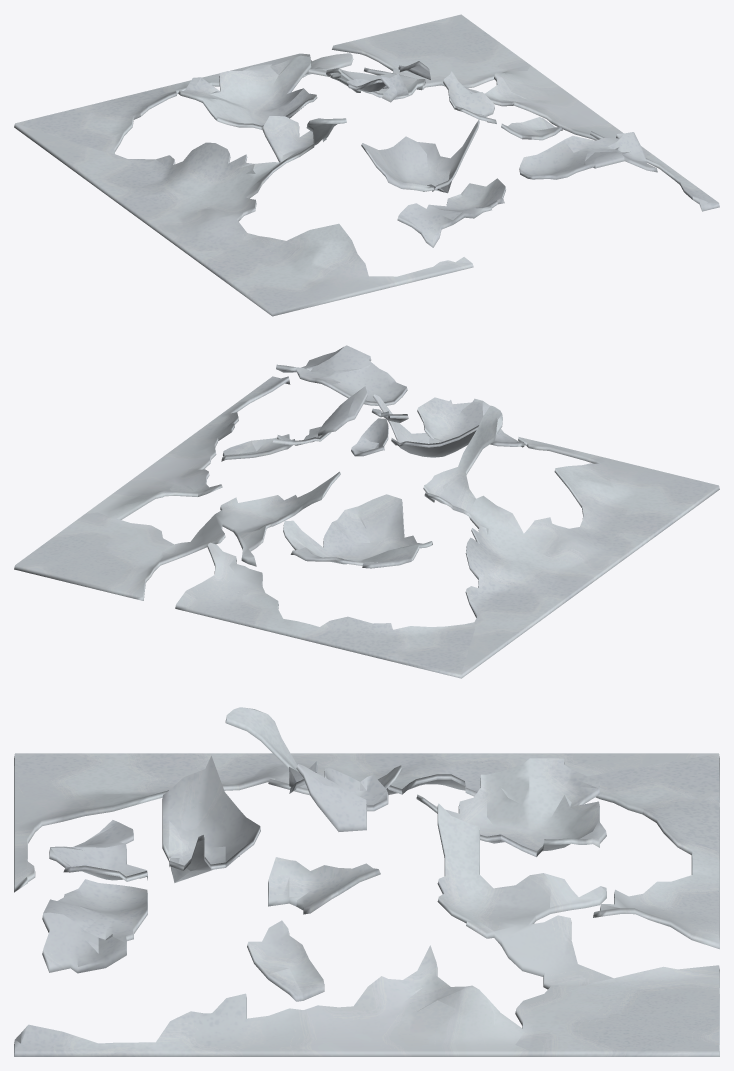
The model's file is Mountains_2_Snow.fbx.
The picture shows the model from 3 angles, top to bottom: view 1: azimuth 30°, elevation 25°; view 2: azimuth 150°, elevation 25°; view 3: azimuth 270°, elevation 25°; orthographic projection. The views are drawn at different scales.
Parts seen in each view (by area): view 1: Mountains_2_Snow_LOD0; view 2: Mountains_2_Snow_LOD0; view 3: Mountains_2_Snow_LOD0.
Boxes of the visible parts, x1=… form: Mountains_2_Snow_LOD0: x1=14, y1=14, x2=719, y2=316; Mountains_2_Snow_LOD0: x1=14, y1=345, x2=719, y2=678; Mountains_2_Snow_LOD0: x1=14, y1=707, x2=719, y2=1056.
Size of what is drawn, in the model's own units: 992 by 251 by 992.
